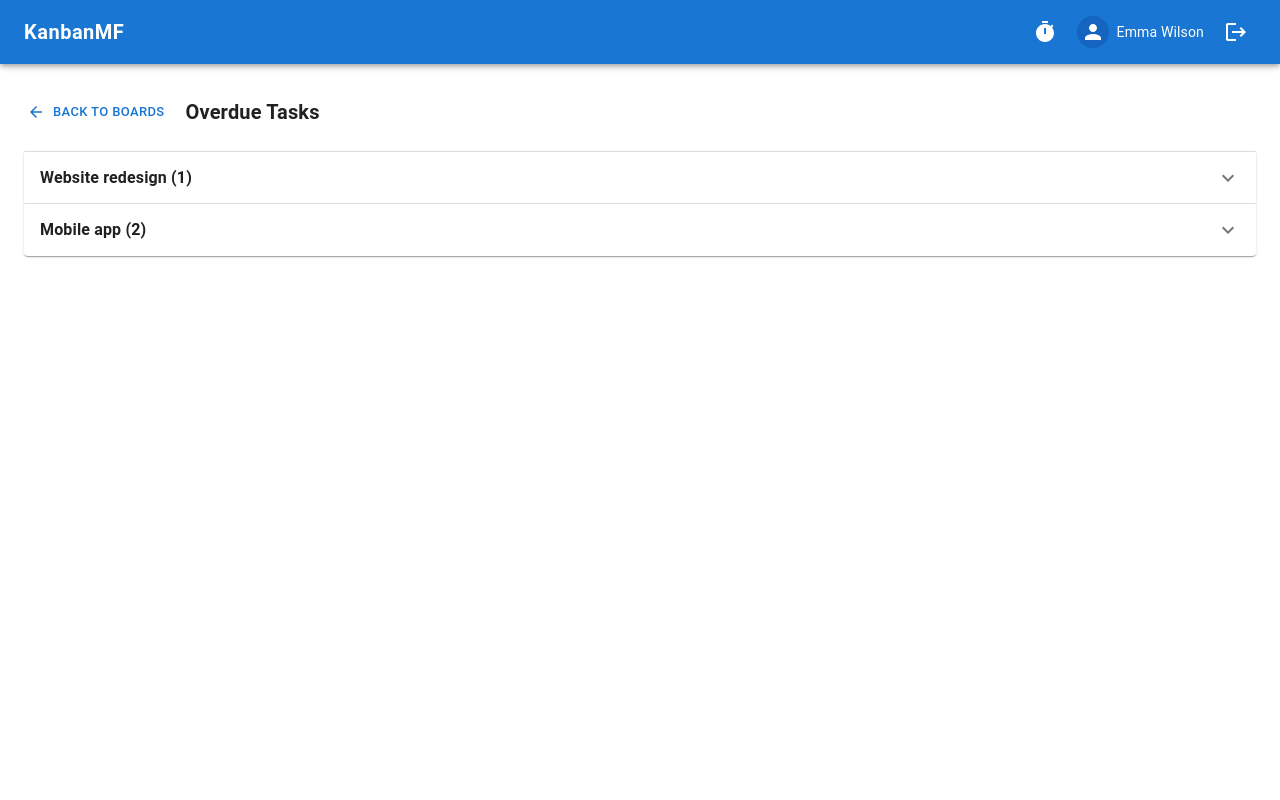
Test: OverdueTasks › what it shows › fetches the overdue tasks again on a change elsewhere, keeping the boards you unfolded open
Click the button "Website redesign (1)" at (103, 178), box [24,152,1256,204]
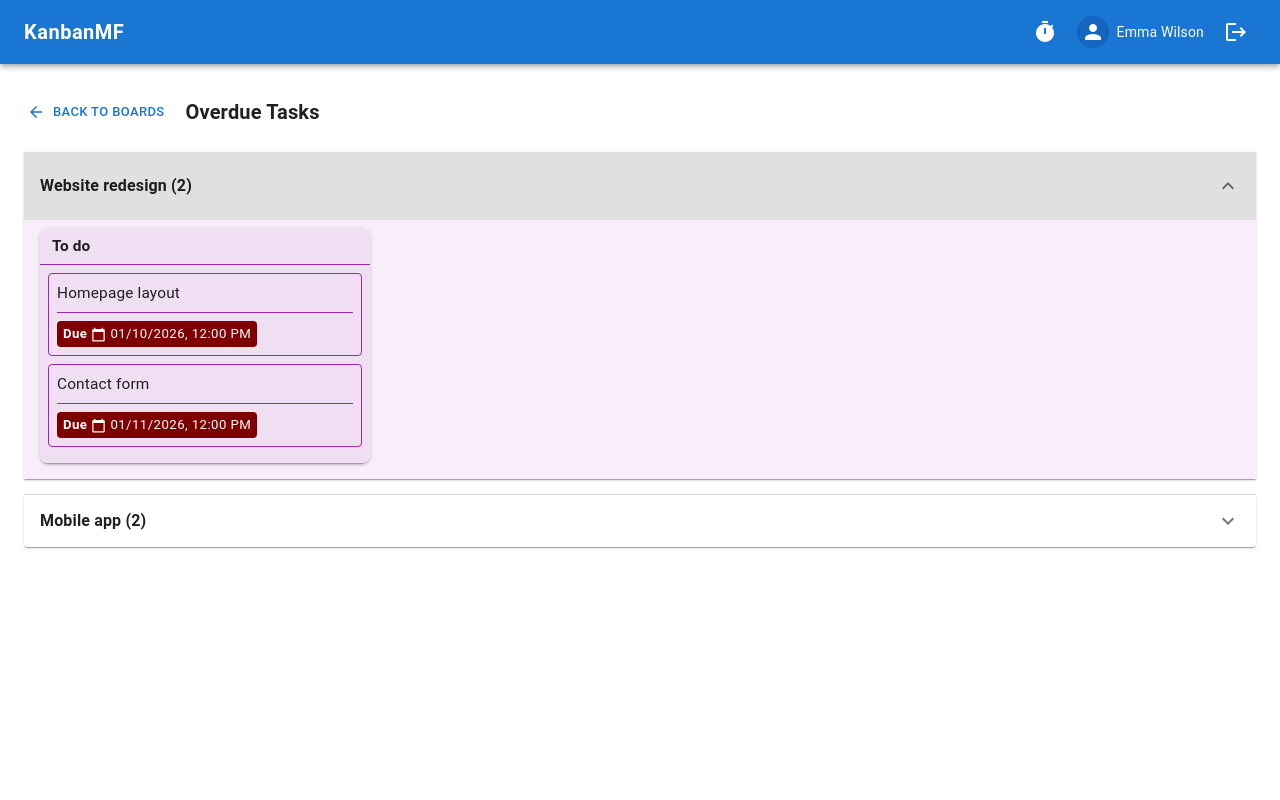
expect the button "Website redesign (2)" is expanded: met, box [24,152,1256,220]
expect the link "Homepage layout Due 01/10/2026, 12:00 PM" is shown: met, box [49,274,361,355]
